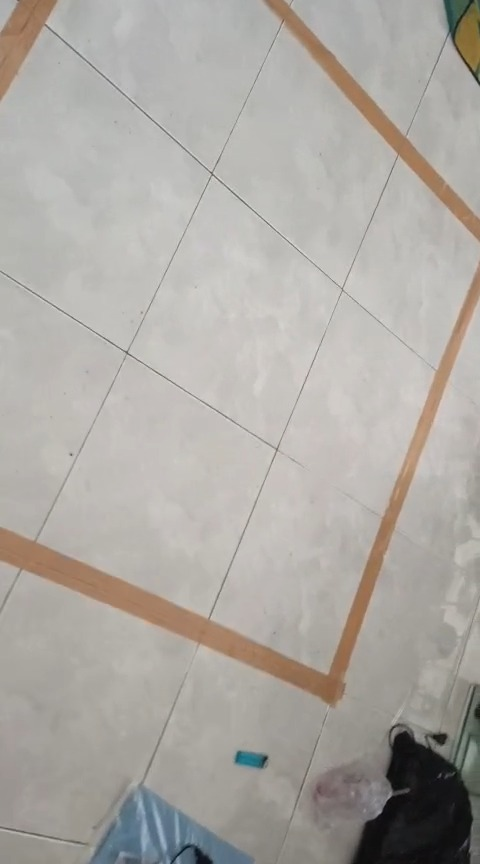floor marking: (0, 263, 479, 704), (264, 0, 479, 241), (0, 0, 56, 99)
